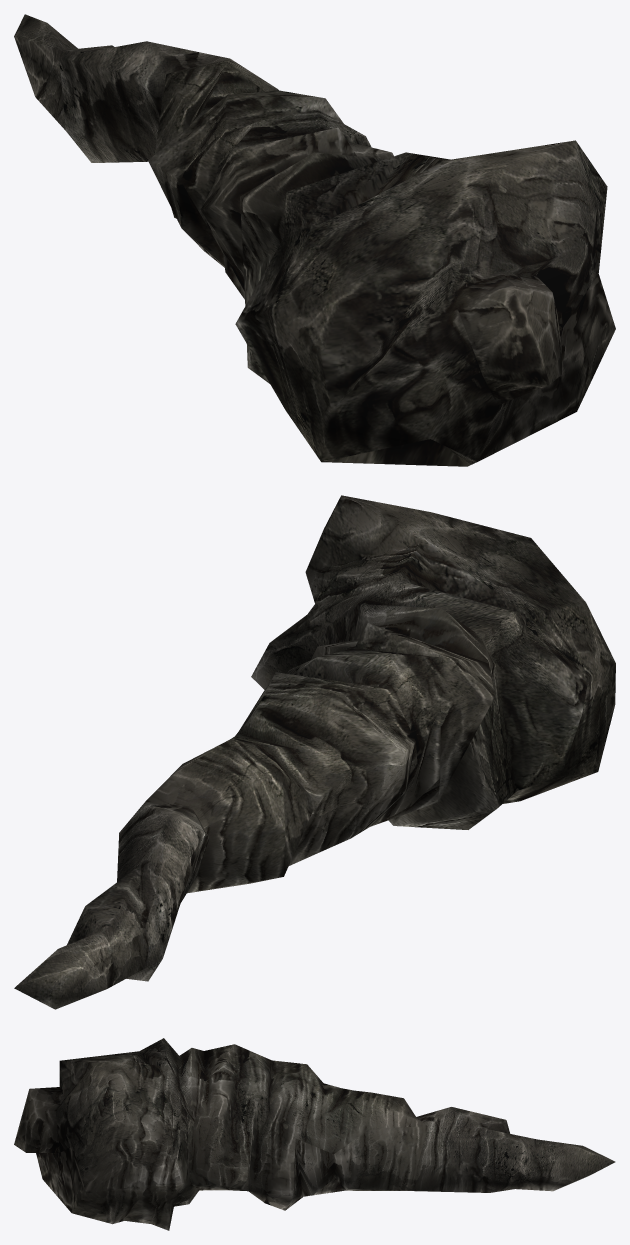
Rendered from AEP_Rock_03_LOD_01.fbx.
3 renders of one model, top to bottom at view 1: azimuth 30°, elevation 25°; view 2: azimuth 150°, elevation 25°; view 3: azimuth 270°, elevation 25°, orthographic. The views are drawn at different scales.
Parts seen in each view (by area): view 1: AEP_Rock_03_LOD_01; view 2: AEP_Rock_03_LOD_01; view 3: AEP_Rock_03_LOD_01.
Boxes of the visible parts, x1,y1,x2,y2 form: AEP_Rock_03_LOD_01: (14,14,615,466); AEP_Rock_03_LOD_01: (14,495,615,1009); AEP_Rock_03_LOD_01: (14,1038,615,1230).
Size of the model in its own units: 5.72 by 4.67 by 15.81.
